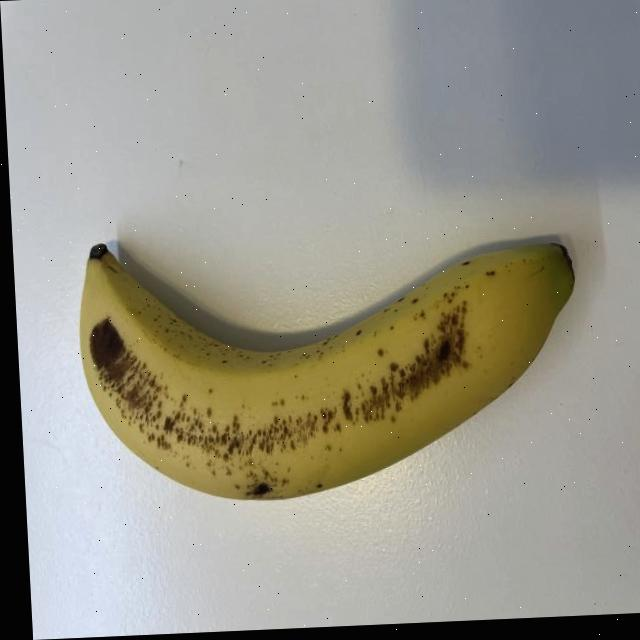banana: (71, 212, 592, 504)
